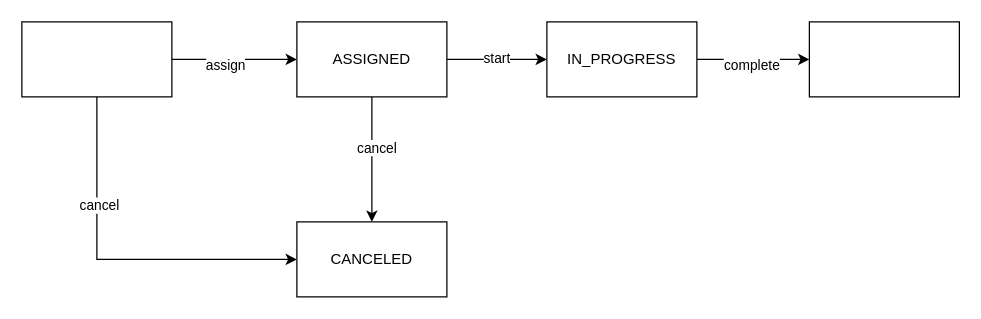
Image size: 981x319. Some labels were removed from this diagram. Each missing label, with the box of its shape:
COMPLETED: (808, 21, 959, 97)
RECEIVED: (21, 21, 172, 97)
